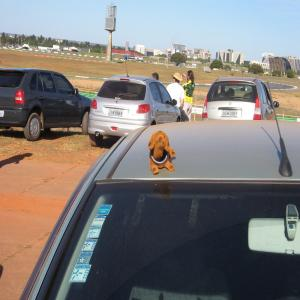Vehicle-registration-plate: (108, 110, 125, 118), (223, 110, 239, 118), (1, 110, 5, 118)
